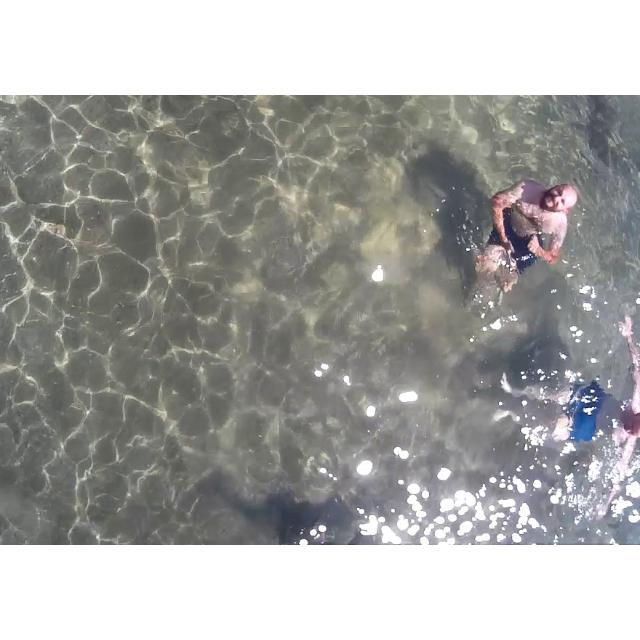human: (484, 299, 635, 536), (465, 149, 573, 294)
